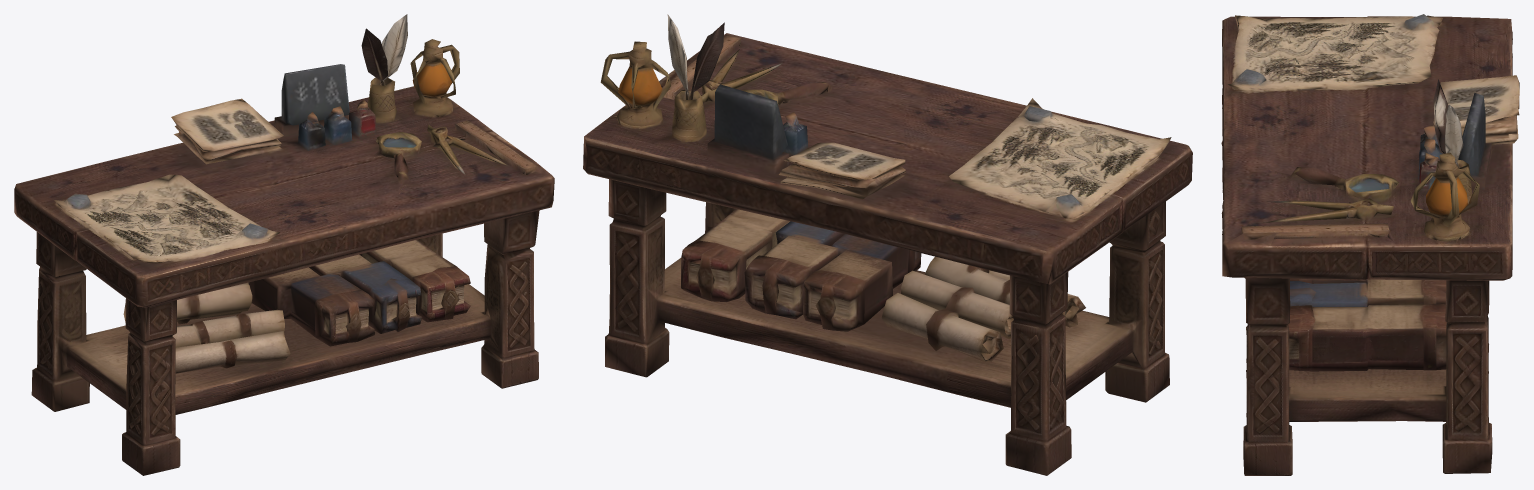
File: mesa-examen.glb
3 views of the same model, side by side, from view 1: azimuth 30°, elevation 25°; view 2: azimuth 150°, elevation 25°; view 3: azimuth 270°, elevation 25° (orthographic). The views are drawn at different scales.
Parts seen in each view (by area): view 1: tripo_node_0334b1c2-2a4b-477d-b3e0-107b0cfd5969; view 2: tripo_node_0334b1c2-2a4b-477d-b3e0-107b0cfd5969; view 3: tripo_node_0334b1c2-2a4b-477d-b3e0-107b0cfd5969.
Boxes of the visible parts, x1,y1,x2,y2 form: tripo_node_0334b1c2-2a4b-477d-b3e0-107b0cfd5969: (14, 14, 554, 475); tripo_node_0334b1c2-2a4b-477d-b3e0-107b0cfd5969: (583, 14, 1192, 475); tripo_node_0334b1c2-2a4b-477d-b3e0-107b0cfd5969: (1221, 14, 1519, 475).
Bounding box in the file's own units: 0.9795 × 0.6838 × 0.528.
1 material, 1 textured.
